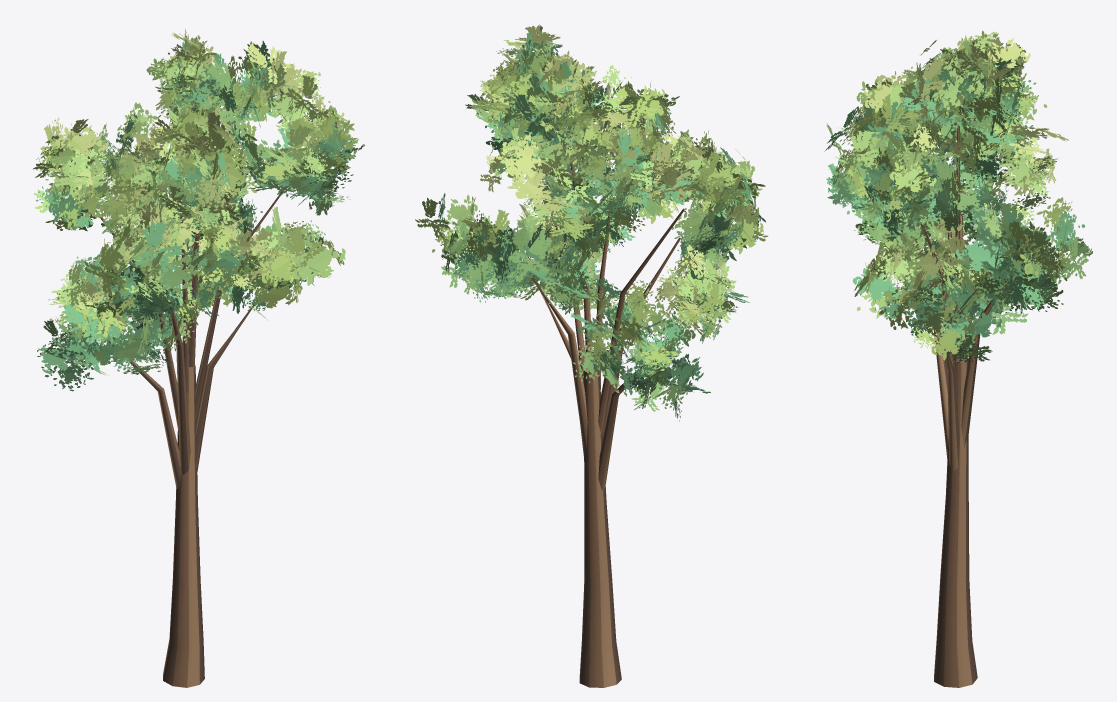
File: Tree_03_Tall_Clouds_LOD1.glb
3 views of the same model, side by side, from view 1: azimuth 30°, elevation 25°; view 2: azimuth 150°, elevation 25°; view 3: azimuth 270°, elevation 25° (orthographic). The views are drawn at different scales.
Visible parts, largest first — view 1: Tree_03_Tall_Clouds_LOD1; view 2: Tree_03_Tall_Clouds_LOD1; view 3: Tree_03_Tall_Clouds_LOD1.
Part boxes in pixels (x1,y1,x2,y2): Tree_03_Tall_Clouds_LOD1: (33,28,364,687); Tree_03_Tall_Clouds_LOD1: (415,24,767,687); Tree_03_Tall_Clouds_LOD1: (824,30,1092,687).
Size of the model in its own units: 4.5 by 8.56 by 3.36.
Materials: 9 (6 with a texture image).
